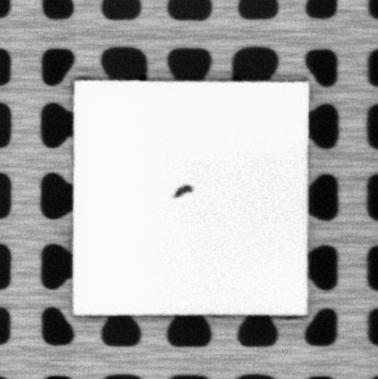DIE_INK: (172, 183, 194, 197)
